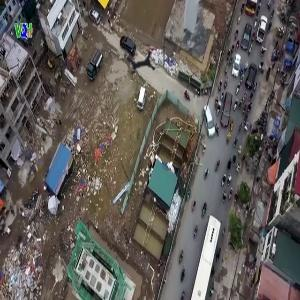drone: (106, 30, 175, 99)
